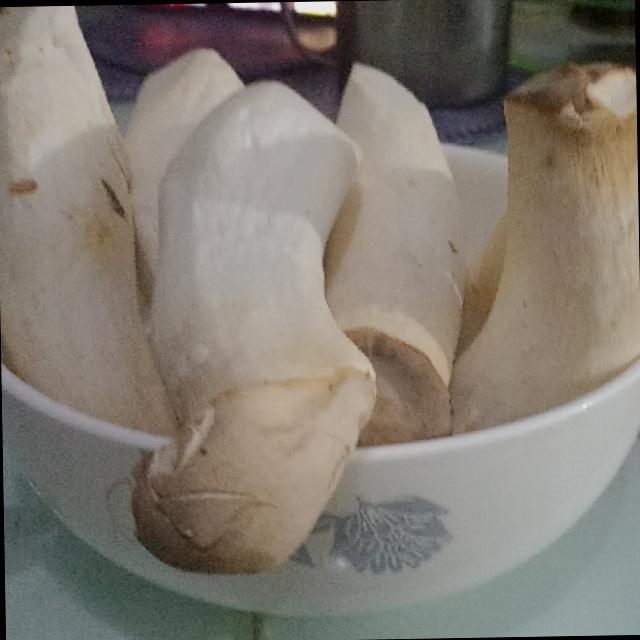Pleurotus eryngii: (131, 68, 399, 568), (434, 67, 640, 419)
